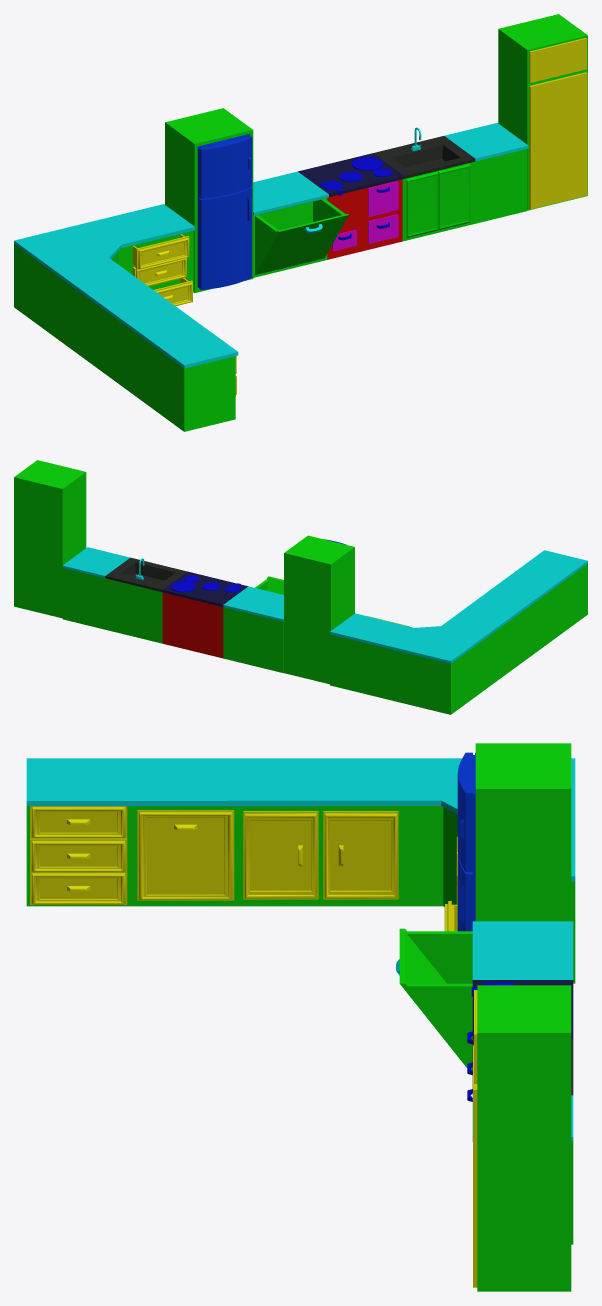
Rendered from kitchen_parts.fbx.
3 views of the same model, one above another, from view 1: azimuth 30°, elevation 25°; view 2: azimuth 150°, elevation 25°; view 3: azimuth 270°, elevation 25° (orthographic). The views are drawn at different scales.
Parts seen in each view (by area): view 1: kok; view 2: kok; view 3: kok.
Boxes of the visible parts, x1,y1,x2,y2 form: kok: (14,14,587,431); kok: (14,460,587,714); kok: (26,743,575,1291).
Size of the model in its own units: 63.41 by 18.01 by 34.4.
